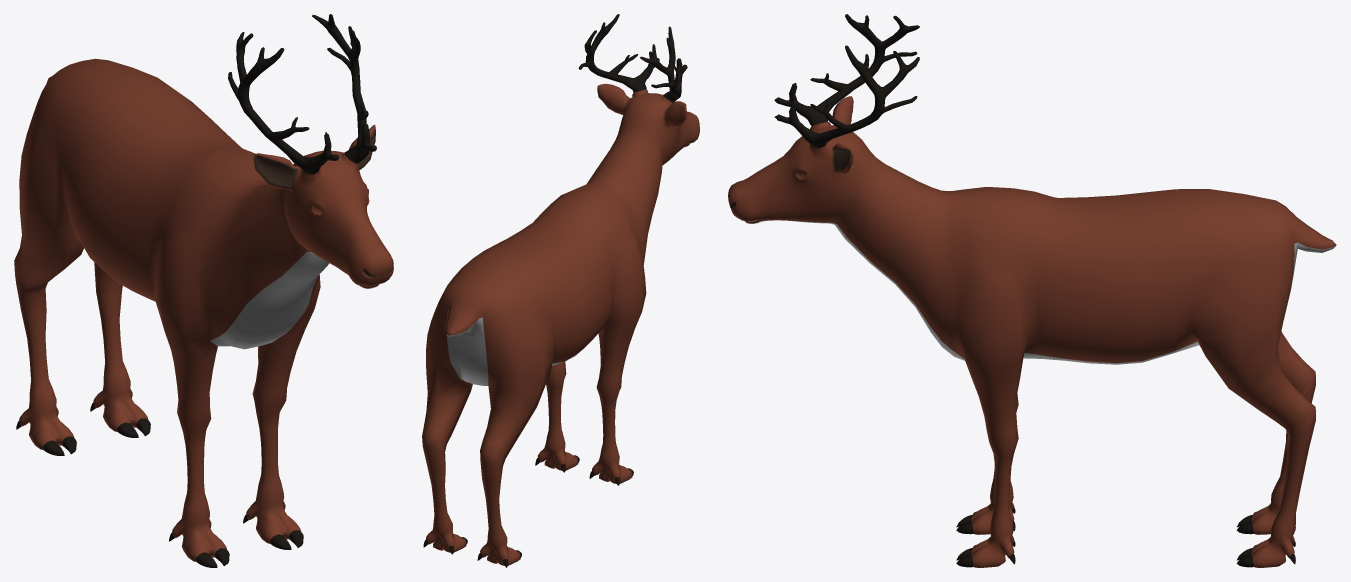
The model's file is reindeer_reindeer.obj.
3 renders of one model, left to right at view 1: azimuth 30°, elevation 25°; view 2: azimuth 150°, elevation 25°; view 3: azimuth 270°, elevation 25°, orthographic. The views are drawn at different scales.
Parts seen in each view (by area): view 1: reindeer; view 2: reindeer; view 3: reindeer.
Part boxes in pixels (box(x1,y1,x2,y2)): reindeer: box(14, 14, 393, 567); reindeer: box(422, 14, 699, 567); reindeer: box(728, 14, 1336, 567).
Bounding box in the file's own units: 0.5684 × 1.98 × 2.12.
